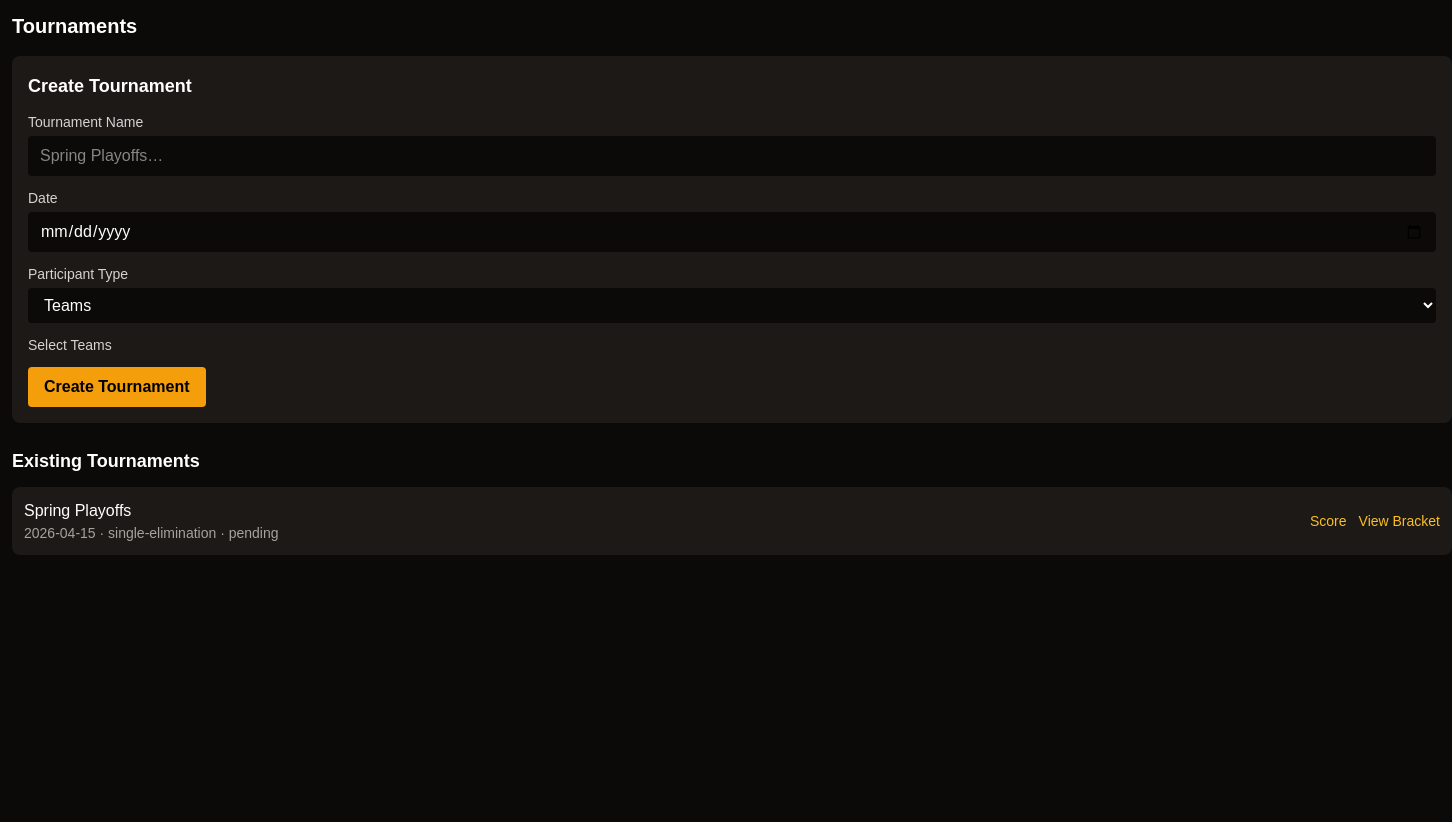
TournamentPage › shows bracket visualization when View Bracket clicked
The image size is (1452, 822).
Step 1. Click the button "View Bracket" → (1399,521), box [1358,511,1440,531]
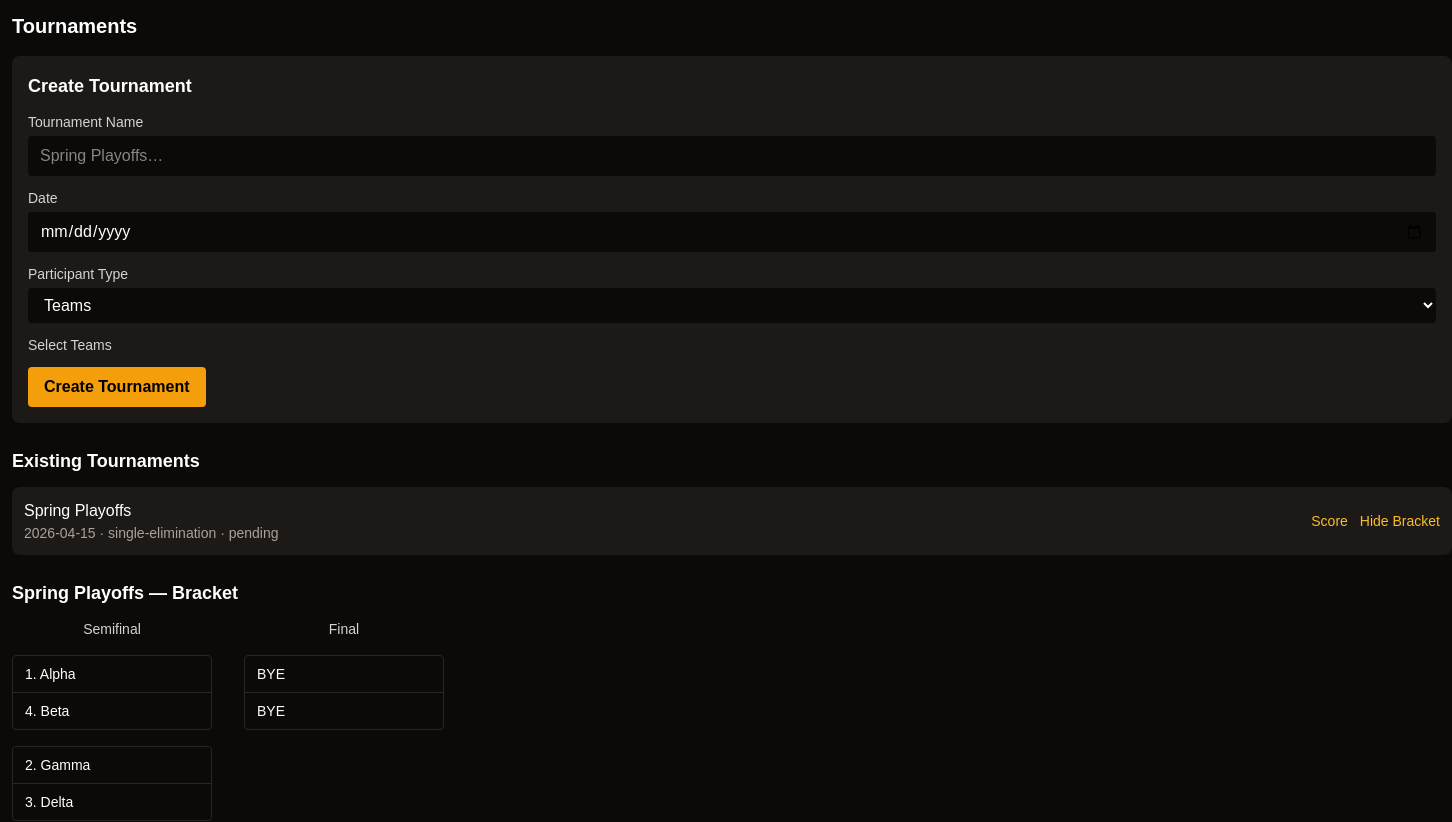
expect the element with test id "bracket-view" is shown: met, box [12,621,444,821]
expect the text "1. Alpha" is shown: met, box [13,656,211,693]
expect the text "4. Beta" is shown: met, box [25,703,69,719]
